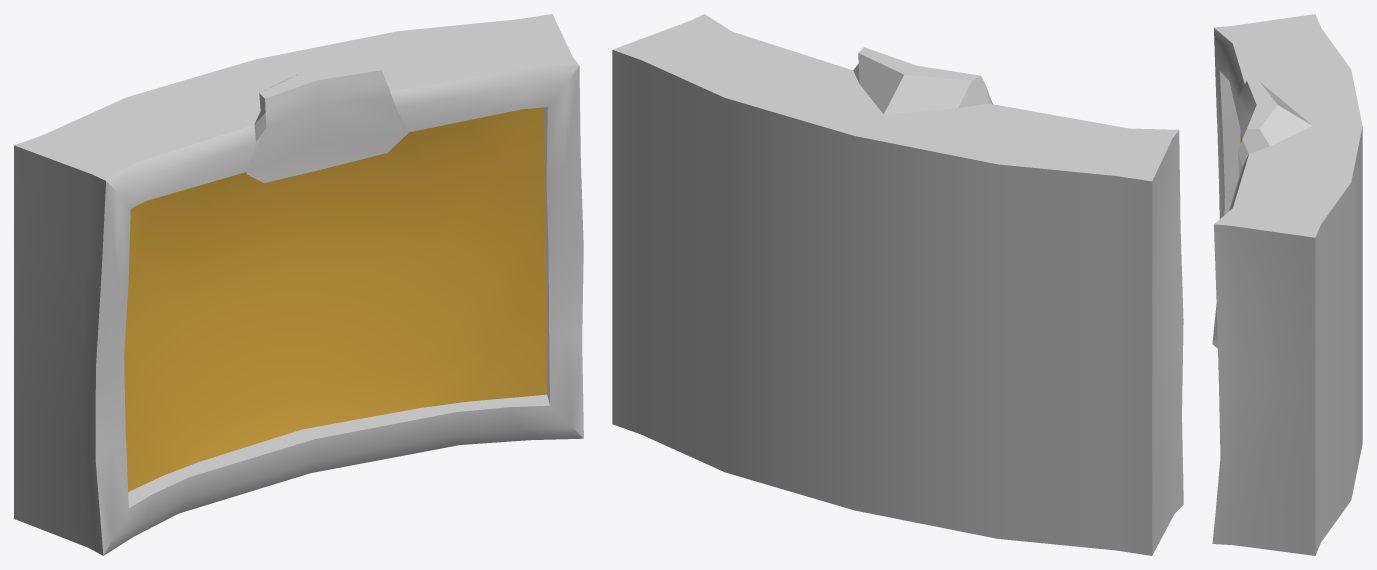
Rendered from CockpitScreen.fbx.
3 renders of one model, left to right at view 1: azimuth 30°, elevation 25°; view 2: azimuth 150°, elevation 25°; view 3: azimuth 270°, elevation 25°, orthographic. The views are drawn at different scales.
Parts seen in each view (by area): view 1: Cube.002; view 2: Cube.002; view 3: Cube.002.
Boxes of the visible parts, bbox=[...] form: Cube.002: bbox=[14, 14, 583, 555]; Cube.002: bbox=[612, 14, 1183, 555]; Cube.002: bbox=[1212, 14, 1362, 555].
Bounding box in the file's own units: 5.51 × 3.89 × 1.56.
